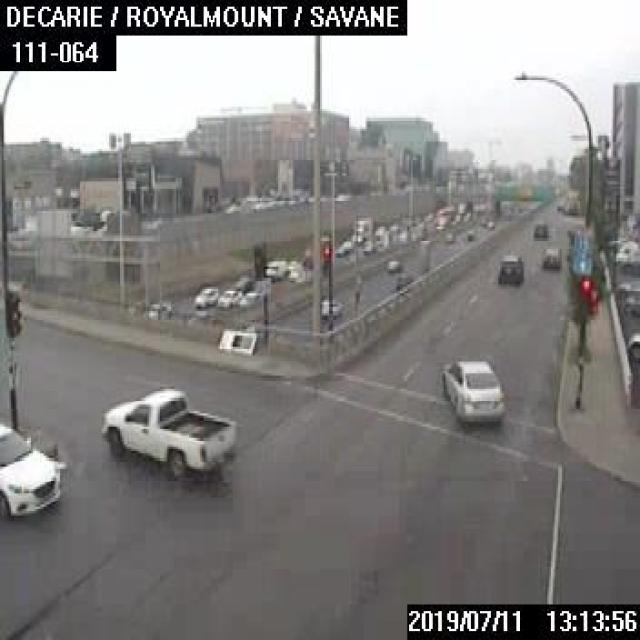vehicle: (98, 382, 238, 480), (0, 418, 62, 520), (438, 353, 507, 427), (495, 253, 524, 287), (192, 285, 218, 309), (262, 256, 287, 280), (614, 274, 638, 298), (538, 244, 560, 269), (320, 298, 340, 320), (217, 288, 241, 306), (626, 330, 638, 359), (623, 294, 638, 314), (384, 256, 400, 274), (531, 218, 545, 238), (444, 231, 454, 245)
